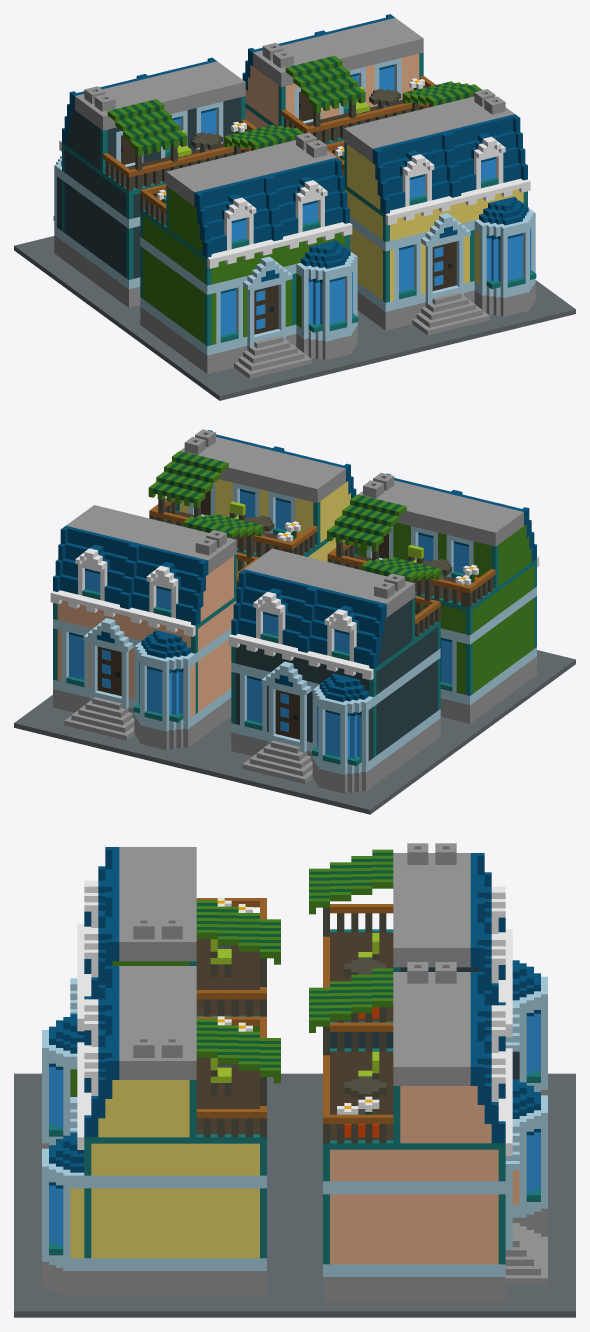
The model's file is building_small_6_overtile.obj.
3 views of the same model, one above another, from view 1: azimuth 30°, elevation 25°; view 2: azimuth 150°, elevation 25°; view 3: azimuth 270°, elevation 25° (orthographic). The views are drawn at different scales.
Size of the model in its own units: 8 by 4 by 8.
1 material, 1 textured.
